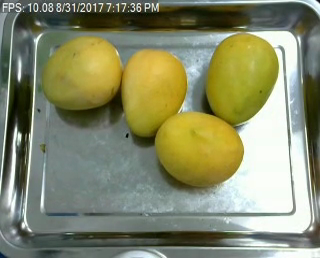Mango: (203, 31, 278, 124), (155, 114, 244, 184), (42, 36, 125, 111), (122, 47, 186, 135)
